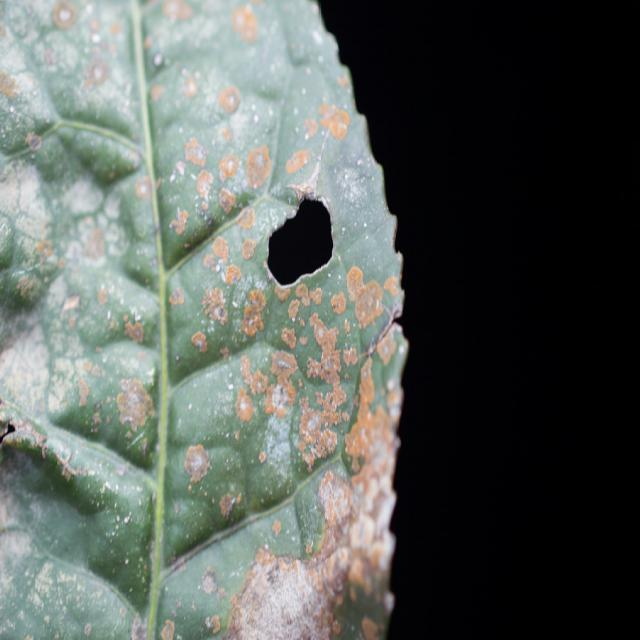Tea red rust: (31, 9, 407, 616)
